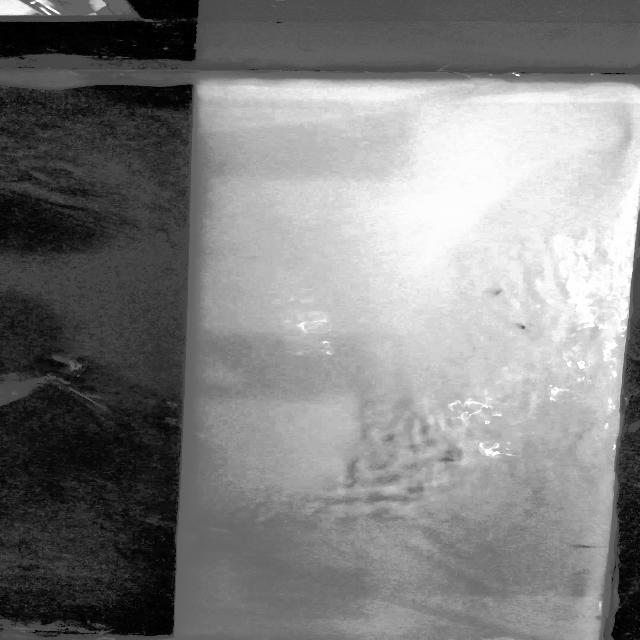shrimp: (426, 445, 466, 467), (559, 539, 606, 554), (500, 319, 543, 335)
